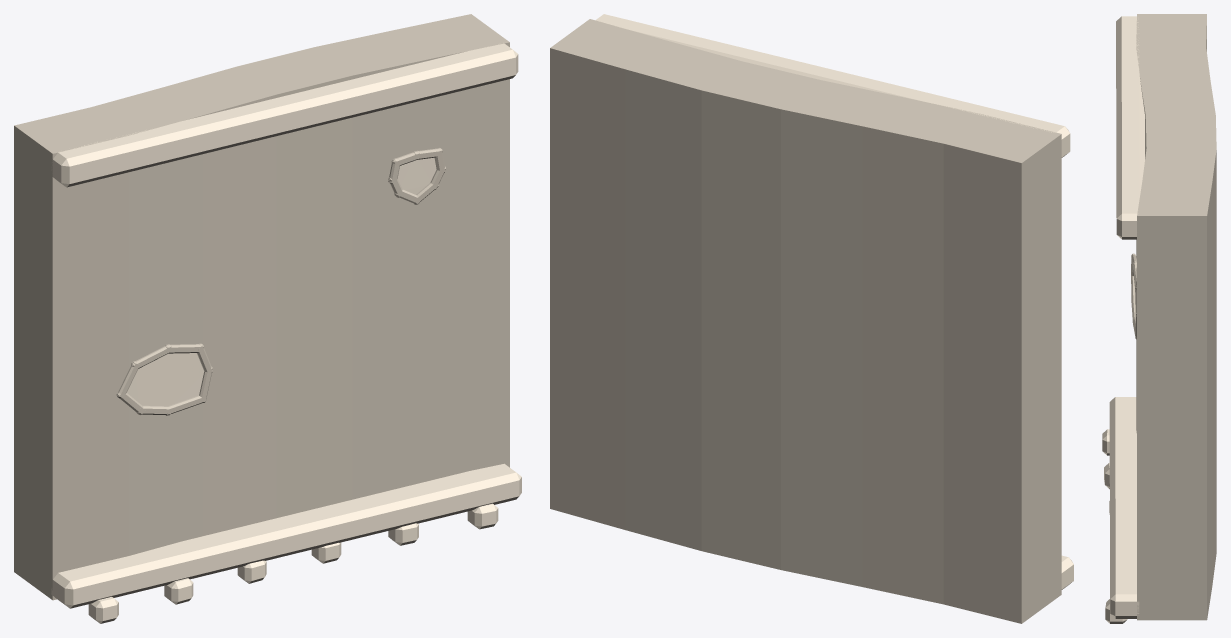
File: SM_VK_Wall_PlasterUp.fbx
3 renders of one model, left to right at view 1: azimuth 30°, elevation 25°; view 2: azimuth 150°, elevation 25°; view 3: azimuth 270°, elevation 25°, orthographic. The views are drawn at different scales.
Visible parts, largest first — view 1: SM_VK_Wall_PlasterUp.001; view 2: SM_VK_Wall_PlasterUp.001; view 3: SM_VK_Wall_PlasterUp.001.
Boxes of the visible parts, <box> form: SM_VK_Wall_PlasterUp.001: <box>14,14,521,623</box>; SM_VK_Wall_PlasterUp.001: <box>550,14,1073,623</box>; SM_VK_Wall_PlasterUp.001: <box>1102,14,1216,623</box>.
Bounding box in the file's own units: 3 × 2.92 × 0.7175.
